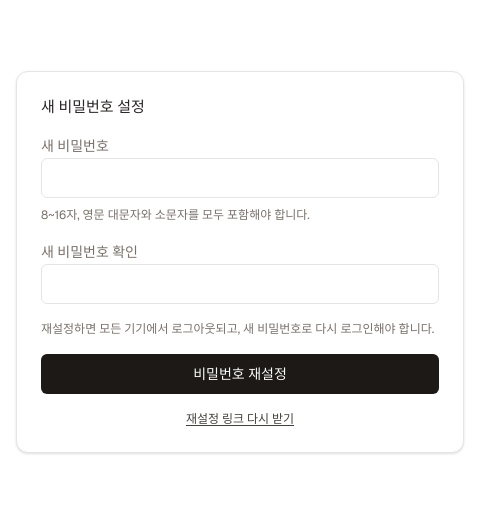
ResetPasswordPage › says the link is bad, not that a field is too short, for a truncated token
In the password field labelled "새 비밀번호": (240, 178) left=41, top=158, right=439, bottom=198, type "NewPassw0rd"
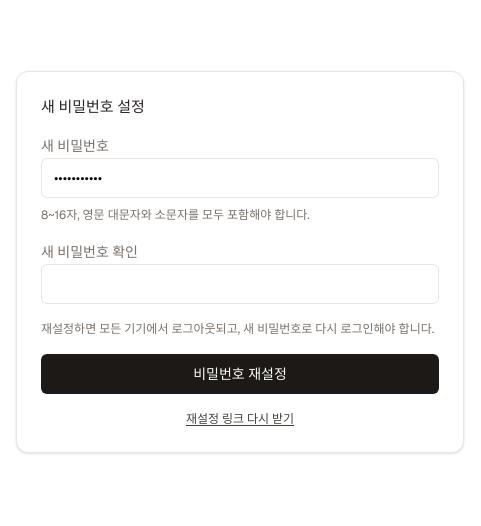
In the password field labelled "새 비밀번호 확인": (240, 284) left=41, top=264, right=439, bottom=304, type "NewPassw0rd"
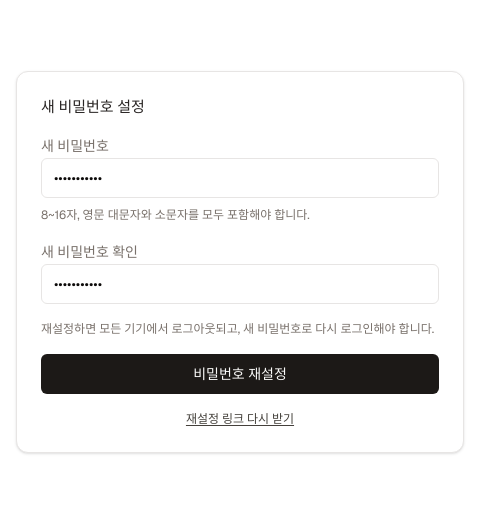
Click the button "비밀번호 재설정": (240, 374) left=41, top=354, right=439, bottom=394
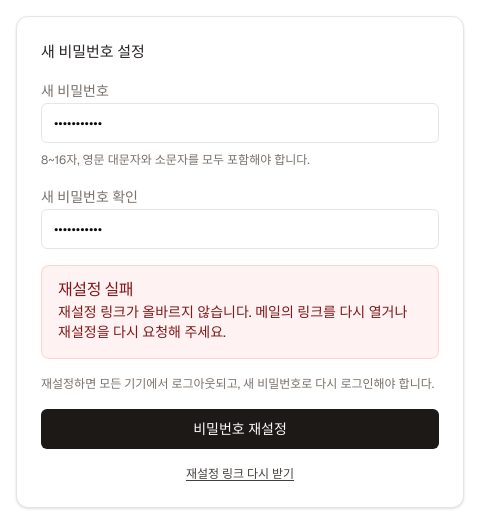
expect the text "재설정 링크가 올바르지 않습니다. 메일의 링크를 다시 열거나 재설정을 다시 요청해 주세요." is shown: met, box left=58, top=302, right=422, bottom=342
